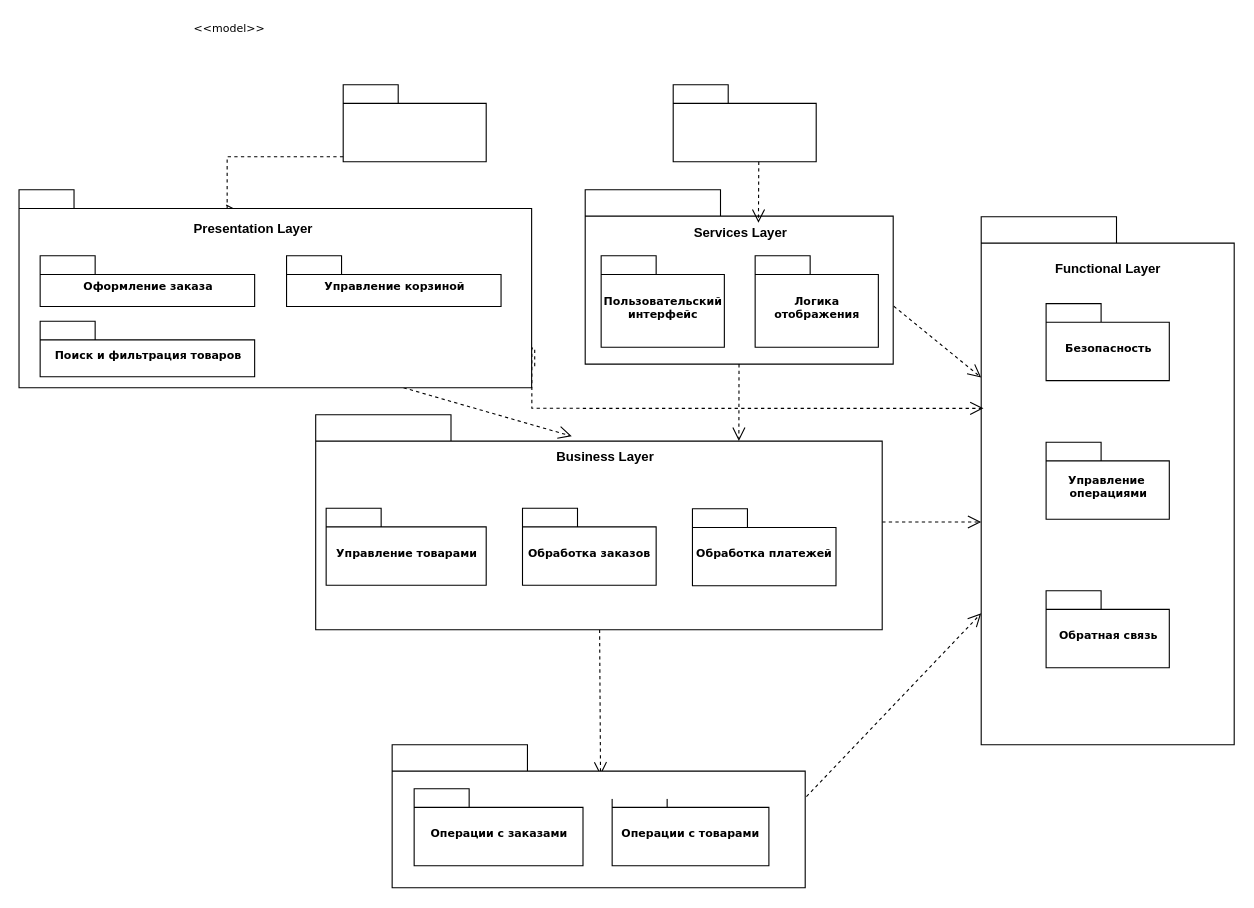
The diagram is 1254 pixels wide and 908 high, and some of its shapes have lost their labels. The shapes that lost their labels are listed below. From the top down, each one's centre as x and y in pixels, then its label:
point 414,123: Пользователи
point 744,123: Внешние системы
point 618,785: Data Access Layer
